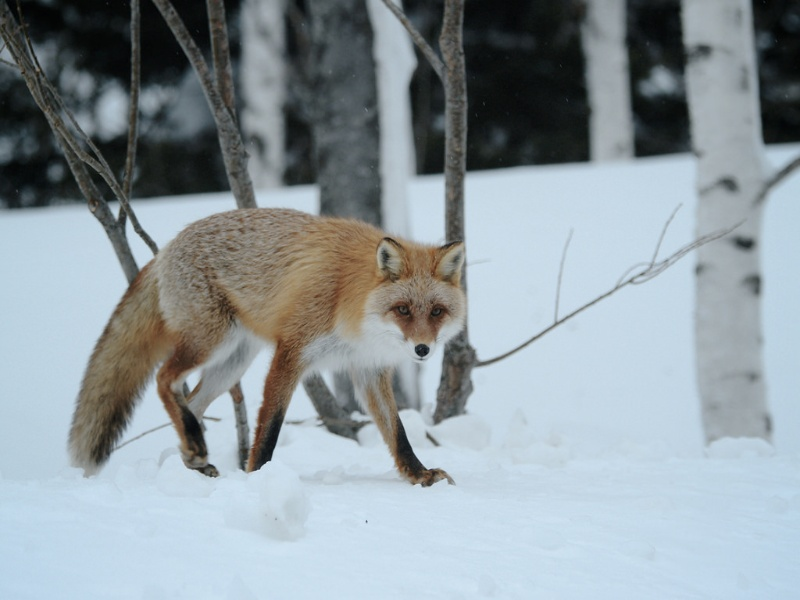fox: (65, 201, 469, 494)
